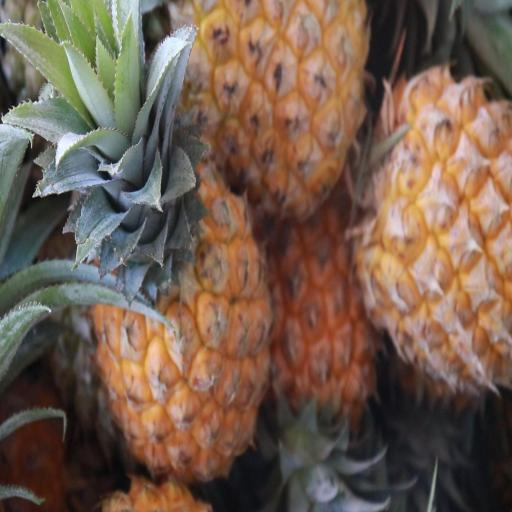Pineapple - v8 v1: (83, 122, 270, 482), (357, 74, 512, 384), (196, 2, 370, 214), (268, 209, 398, 433)
